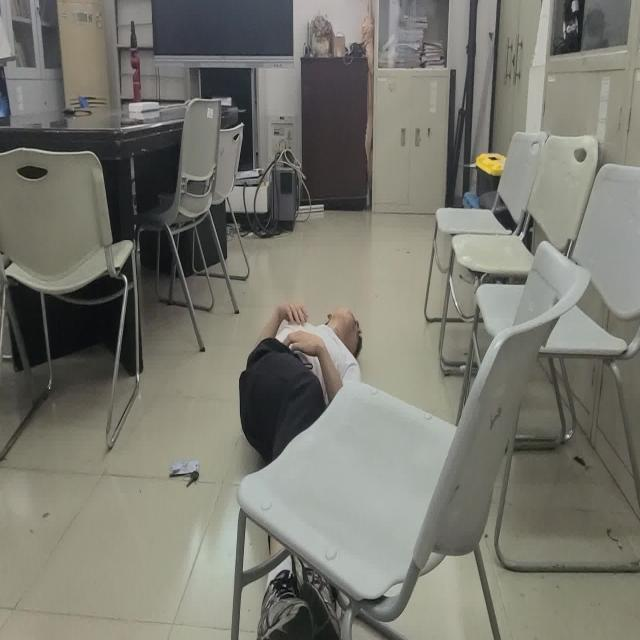Fall-Detected: (235, 300, 365, 640)
